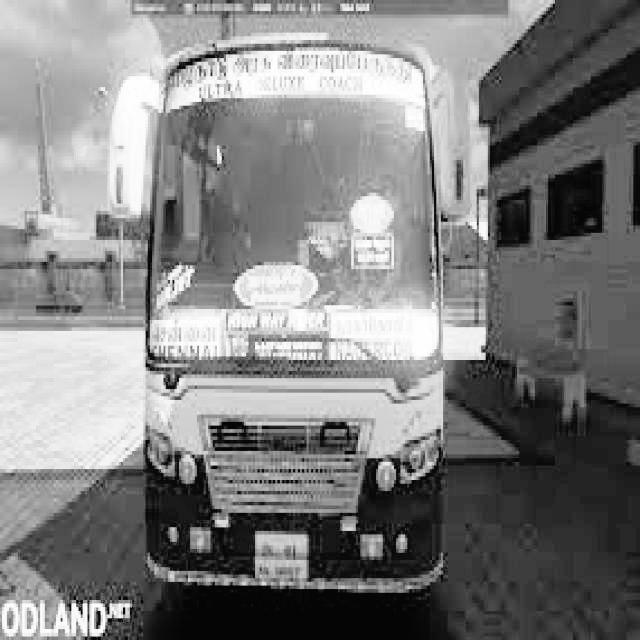Bus: (90, 3, 498, 627)
